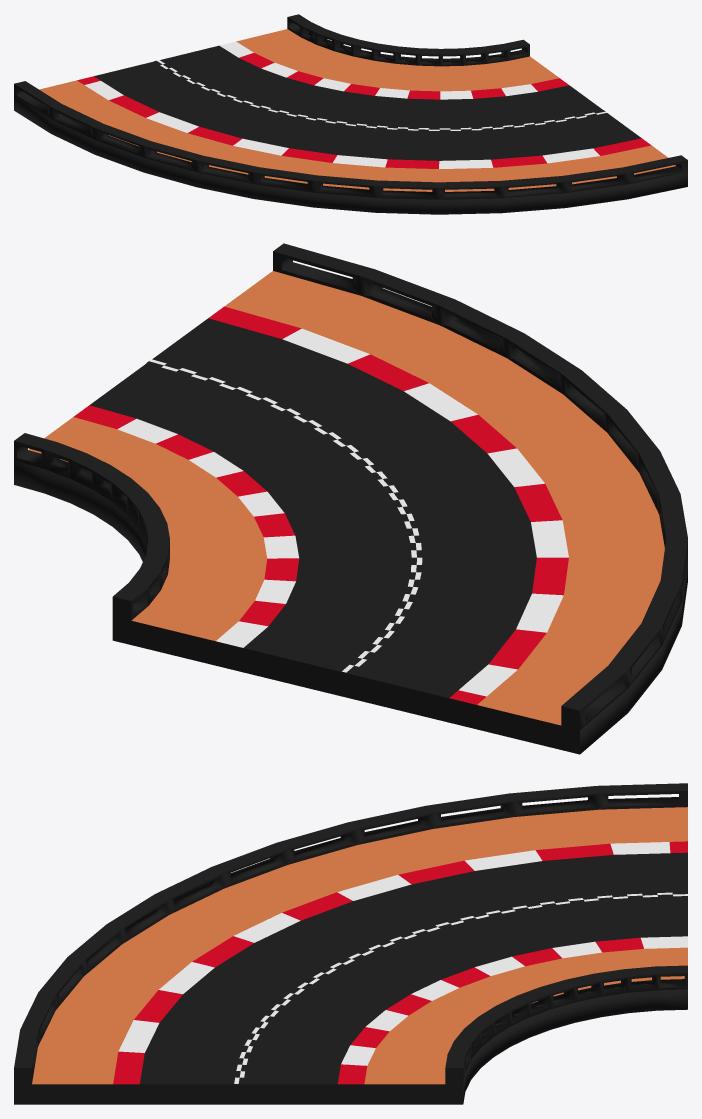
File: ModularTrackCurveMediumLeft-Deux.fbx
3 views of the same model, one above another, from view 1: azimuth 30°, elevation 25°; view 2: azimuth 150°, elevation 25°; view 3: azimuth 270°, elevation 25° (orthographic). The views are drawn at different scales.
Visible parts, largest first — view 1: ModularTrackCurveMediumLeft, LaneDivider; view 2: ModularTrackCurveMediumLeft, LaneDivider; view 3: ModularTrackCurveMediumLeft, LaneDivider.
Boxes of the visible parts, box(x1,y1,x2,y2) form: ModularTrackCurveMediumLeft: box(14, 14, 687, 214); LaneDivider: box(154, 60, 606, 130); ModularTrackCurveMediumLeft: box(14, 243, 687, 754); LaneDivider: box(146, 359, 422, 673); ModularTrackCurveMediumLeft: box(14, 783, 687, 1104); LaneDivider: box(234, 892, 687, 1083).
Bounding box in the file's own units: 1500 × 90 × 1500.
